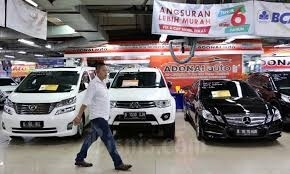plate: (124, 112, 146, 119), (236, 129, 257, 136), (22, 121, 40, 129)
